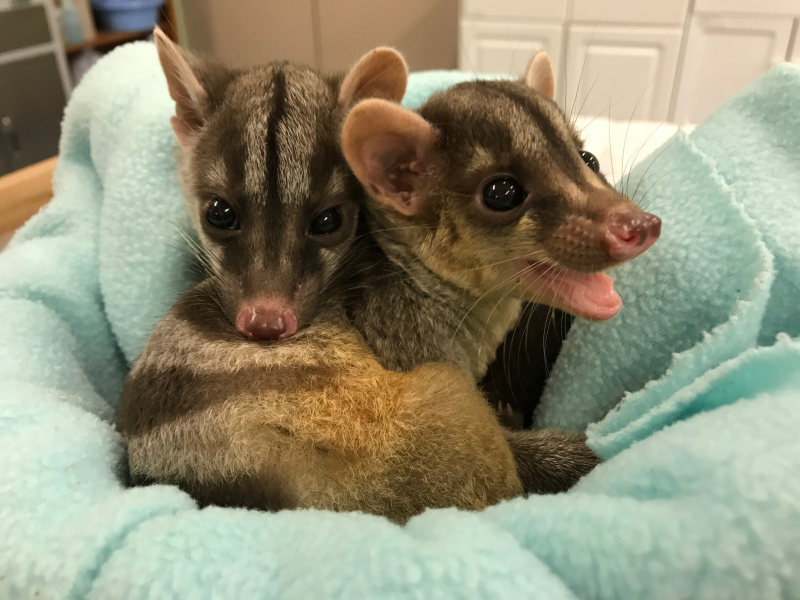Civet: (348, 37, 665, 357), (136, 26, 408, 363)
